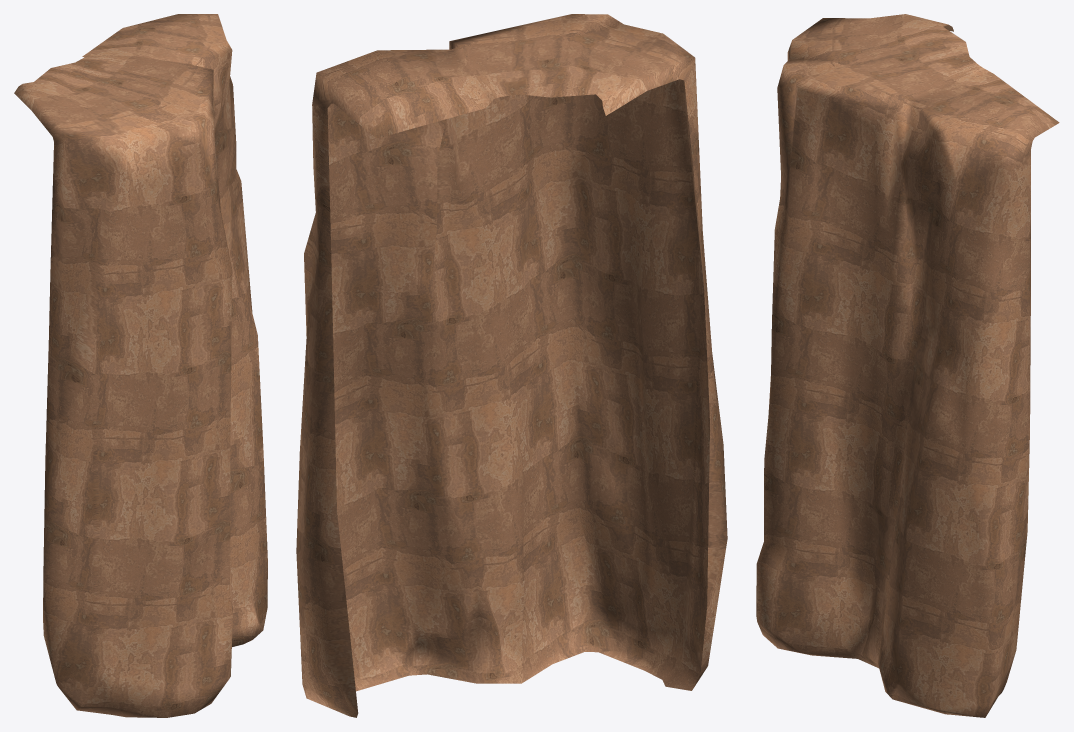
File: Ob_RockCliff11.fbx
3 views of the same model, side by side, from view 1: azimuth 30°, elevation 25°; view 2: azimuth 150°, elevation 25°; view 3: azimuth 270°, elevation 25° (orthographic). The views are drawn at different scales.
Visible parts, largest first — view 1: Ob_RockCliff11; view 2: Ob_RockCliff11; view 3: Ob_RockCliff11.
Boxes of the visible parts, x1,y1,x2,y2 form: Ob_RockCliff11: [14, 14, 267, 717]; Ob_RockCliff11: [296, 14, 727, 717]; Ob_RockCliff11: [756, 14, 1059, 717].
Size of the model in its own units: 41157 by 79395 by 37332.
